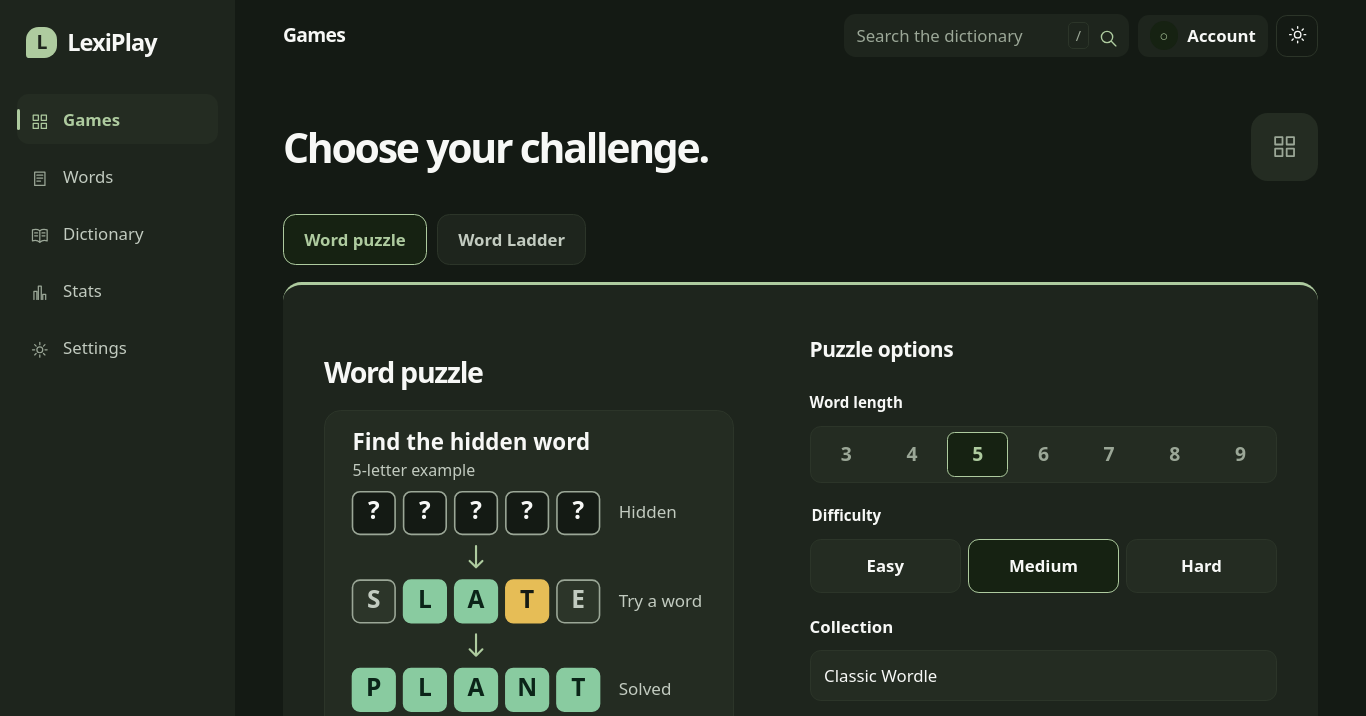
Test case: saved practice and account updates › starts a hard game with only a definition hint beside the grid
Click the radio button named "9 letters" at {"x": 1240, "y": 453}, box [1235,440,1246,467]
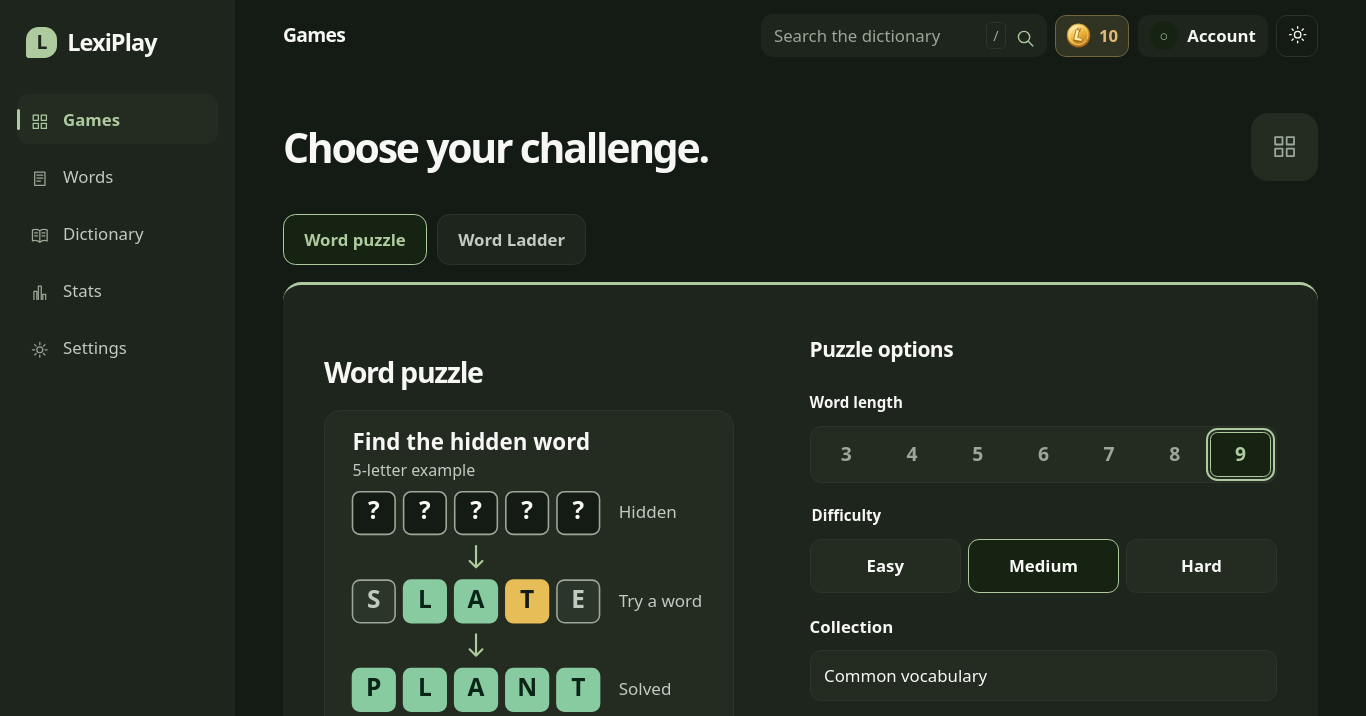
Click the radio button labelled "Hard" at {"x": 1202, "y": 566}, box [1126,539,1277,593]
(page scrolled)
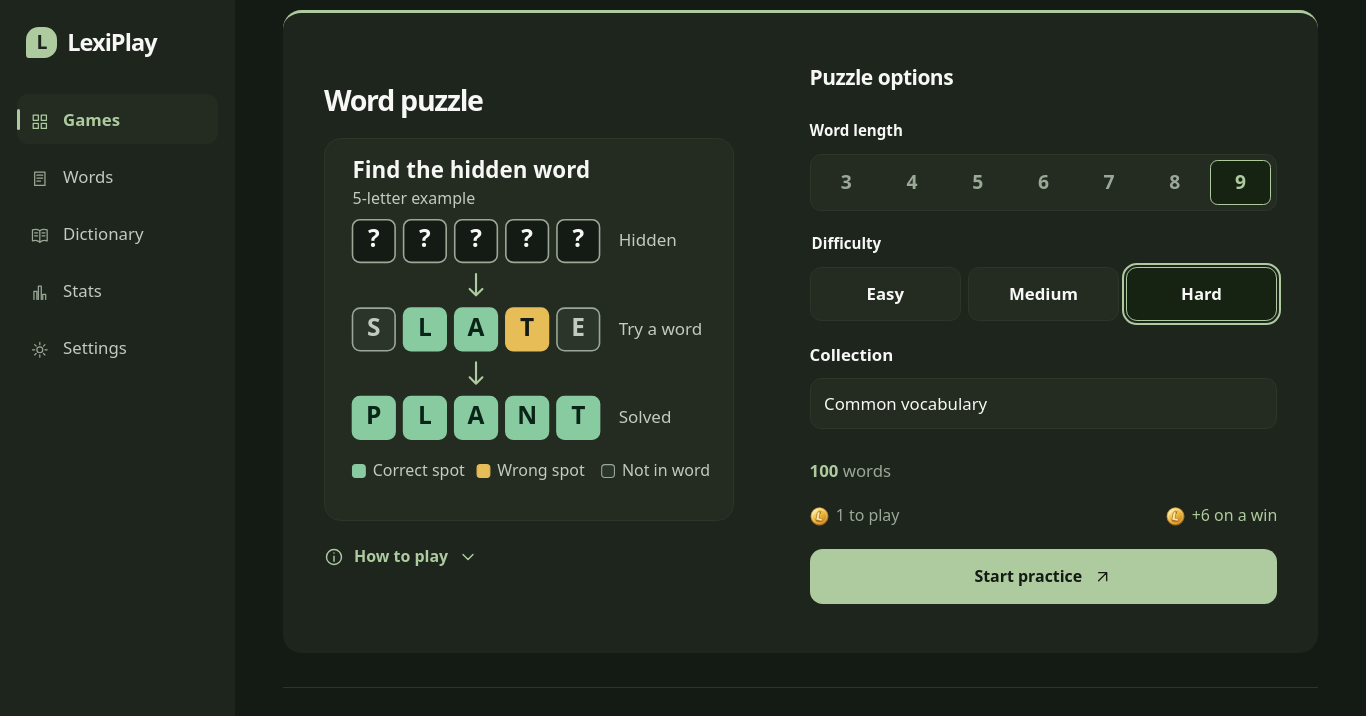
Click the button "Start practice" at {"x": 1043, "y": 576}, box [810,549,1277,604]
(page scrolled)
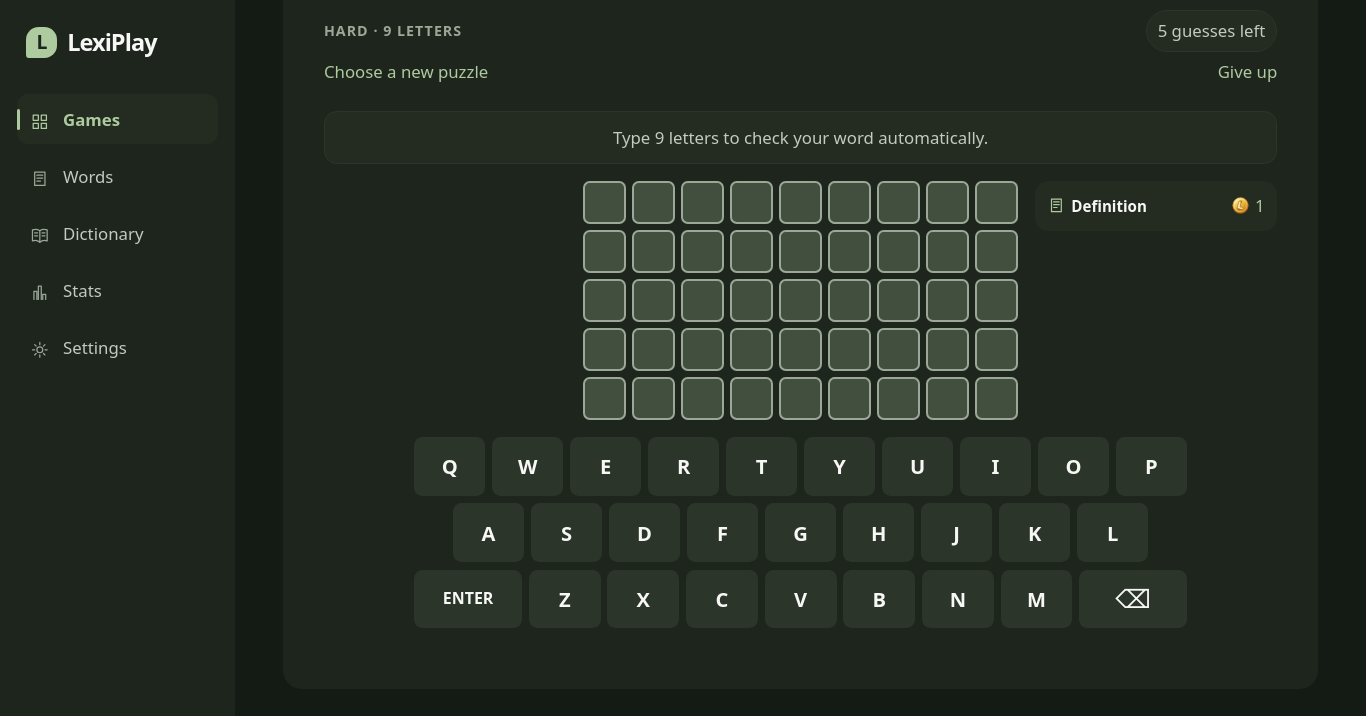
Check: the table named "9-letter puzzle board" is shown, box [583,181,1018,420]
Check: the number of rows is 5, box [583,181,1018,224]; [583,230,1018,273]; [583,279,1018,322]; [583,328,1018,371]; [583,377,1018,420]
Click the button "Definition 1" at {"x": 1156, "y": 206}, box [1035,181,1277,231]
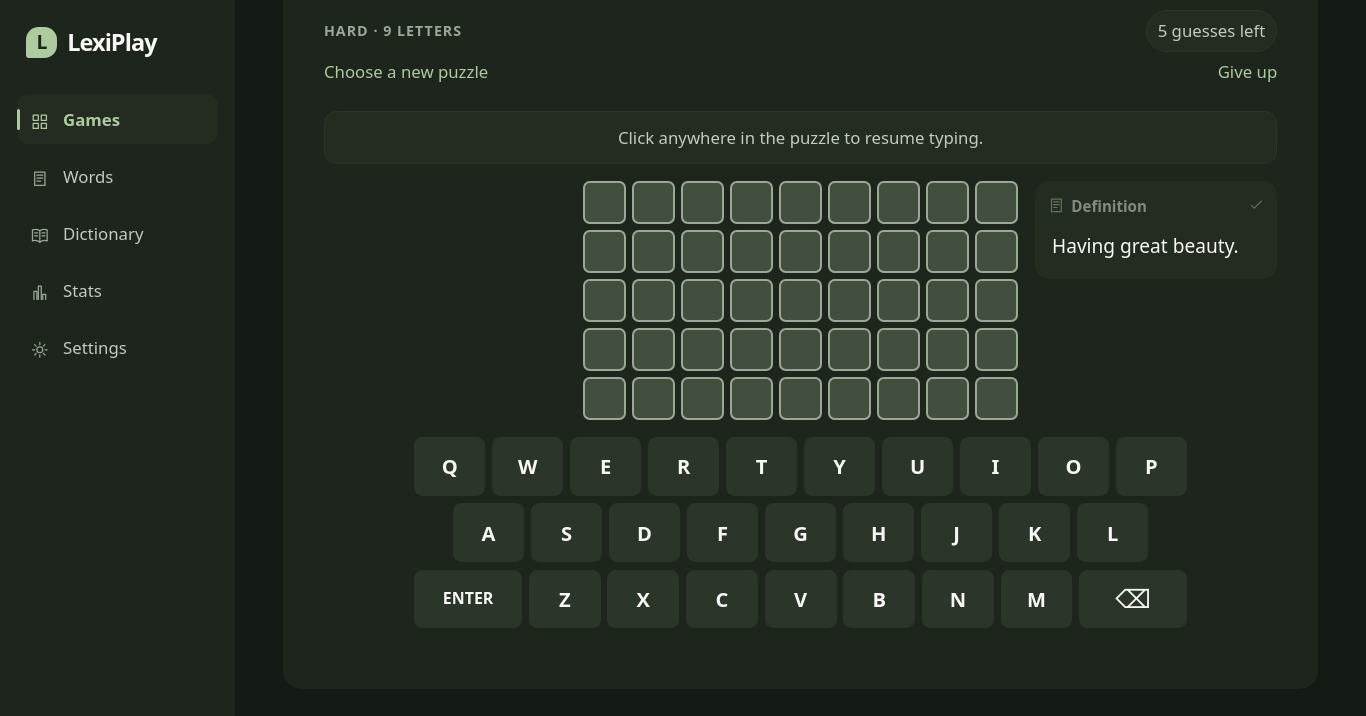
Check: the button "Definition" is disabled, box [1035,181,1277,231]
Check: the element named "Definition hint" shows "Having great beauty.", box [1052,233,1239,259]
Click the link with aria-label "LexiPlay home" at {"x": 91, "y": 42}, box [26,26,157,58]
(page scrolled)
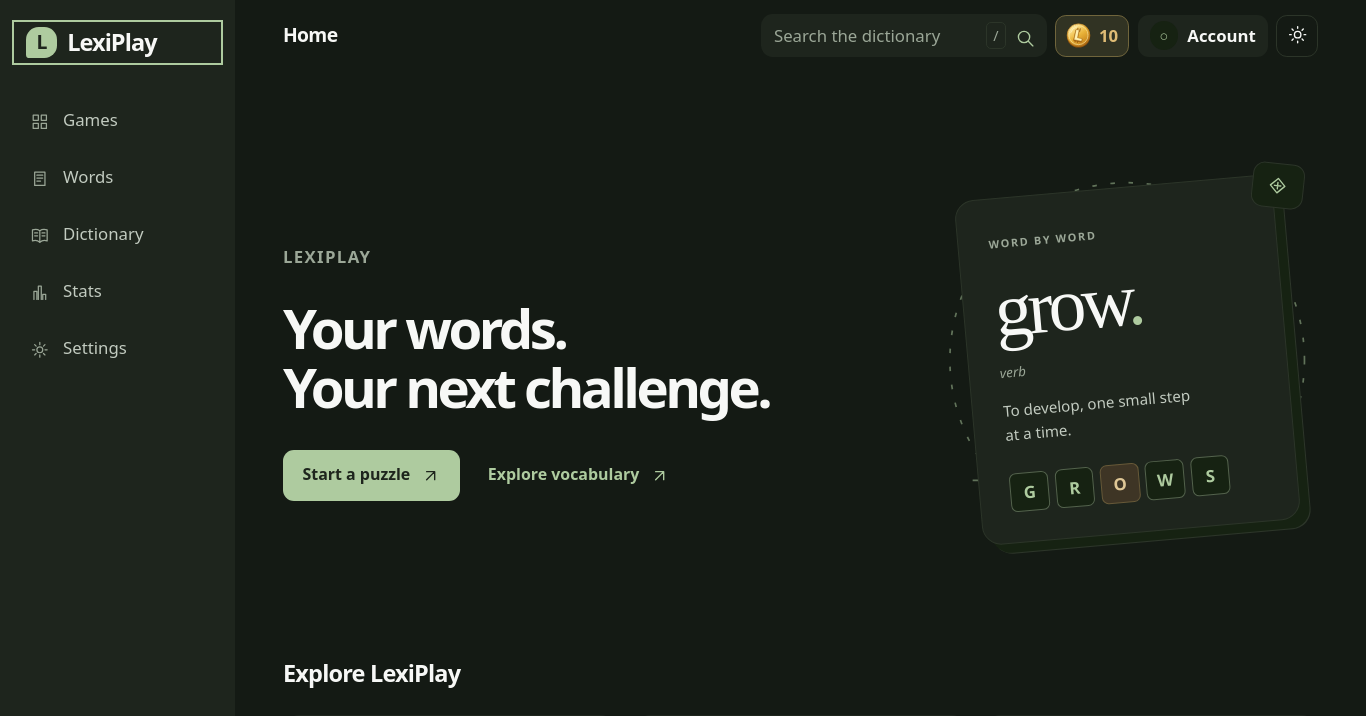
Click the button "Games" at {"x": 118, "y": 119}, box [17,94,218,144]
(page scrolled)
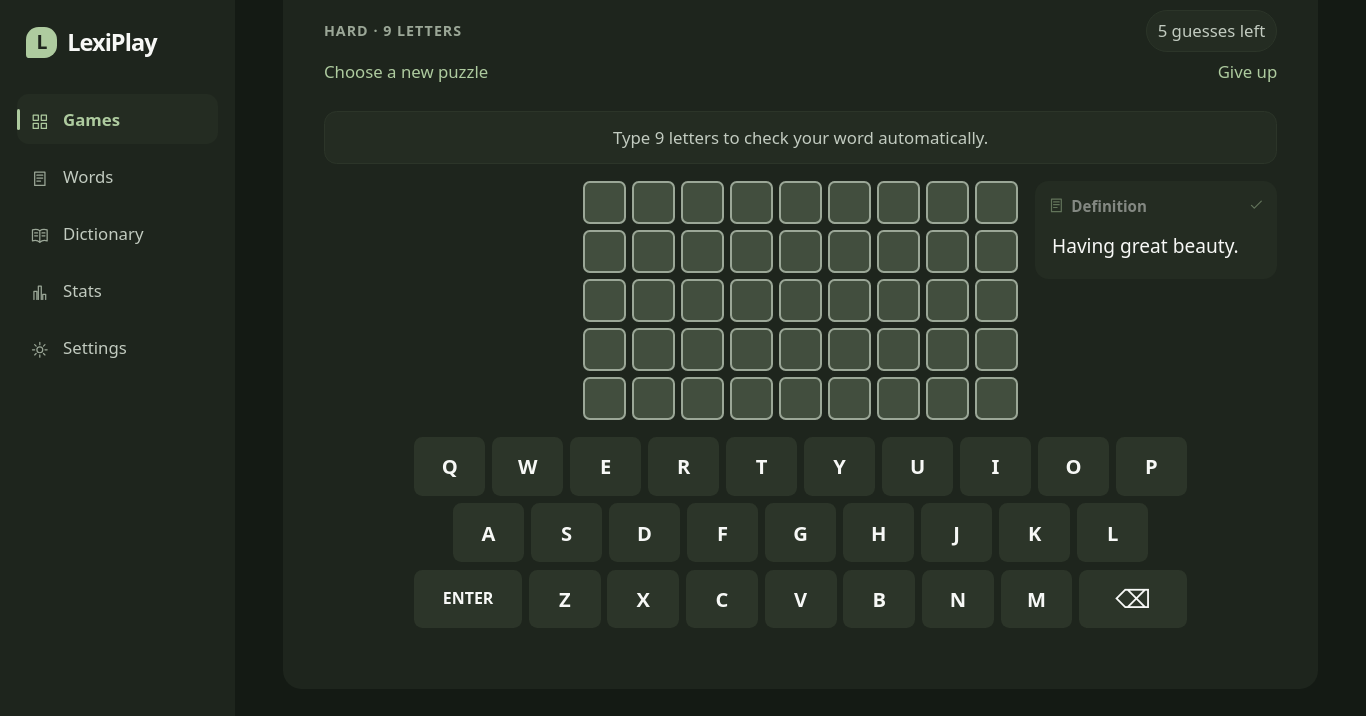
Check: the button "Definition" is disabled, box [1035,181,1277,231]
